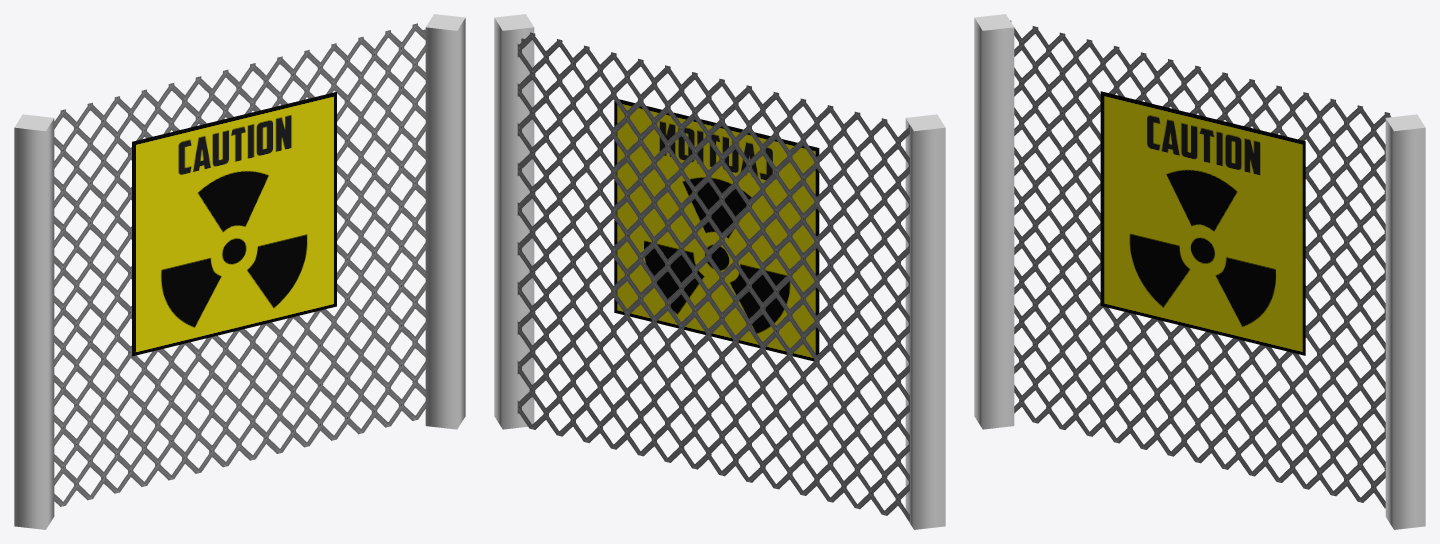
File: FenceSign.FBX
3 views of the same model, side by side, from view 1: azimuth 30°, elevation 25°; view 2: azimuth 150°, elevation 25°; view 3: azimuth 330°, elevation 25° (orthographic).
Visible parts, largest first — view 1: Fence, FenceSign, Poles; view 2: Fence, Poles, FenceSign; view 3: Fence, FenceSign, Poles.
Boxes of the visible parts, x1,y1,x2,y2 form: Fence: [54, 23, 425, 506]; FenceSign: [132, 92, 336, 356]; Poles: [14, 14, 465, 529]; Fence: [517, 32, 909, 521]; Poles: [494, 14, 945, 529]; FenceSign: [614, 99, 819, 361]; Fence: [1010, 20, 1390, 508]; FenceSign: [1100, 91, 1305, 355]; Poles: [974, 14, 1425, 529].
Bounding box in the file's own units: 154 × 130 × 13.65.
2 materials, 2 textured.
